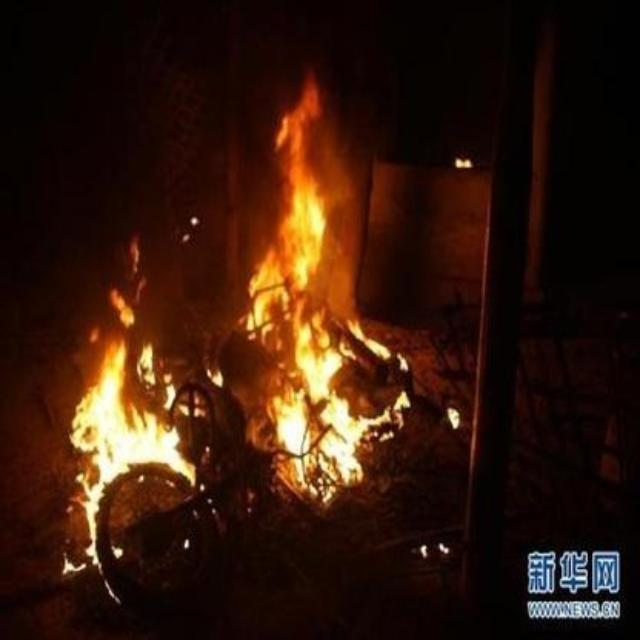Fire: (34, 70, 472, 574)
